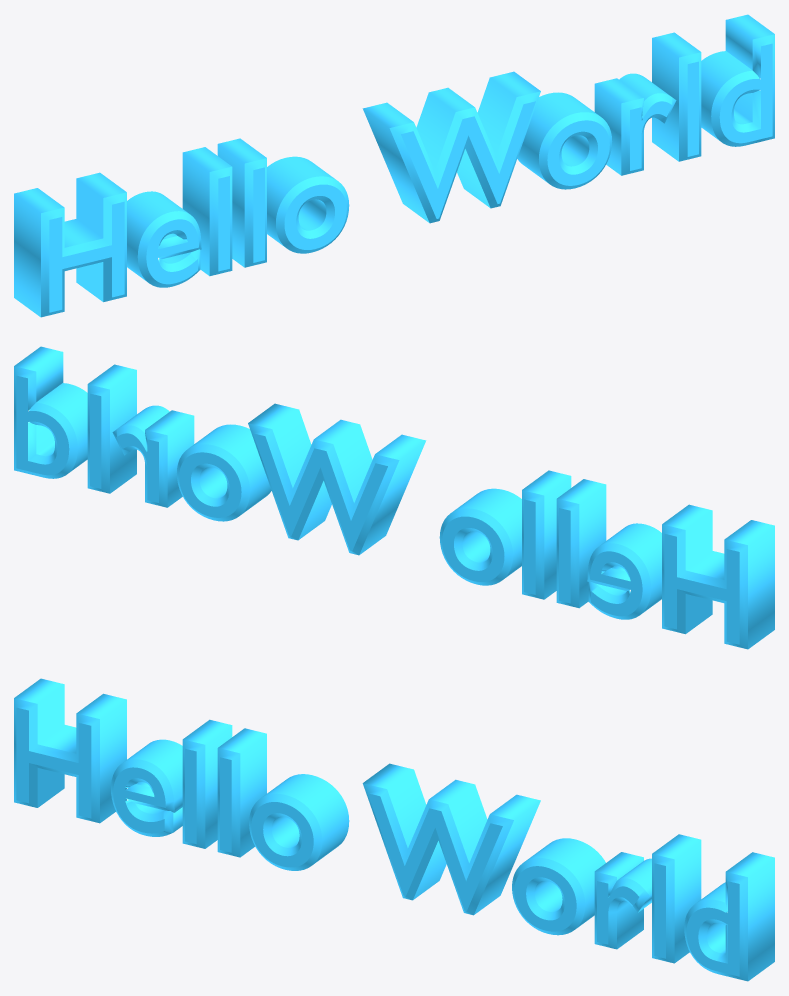
Rendered from HelloWorld.glb.
3 views of the same model, one above another, from view 1: azimuth 30°, elevation 25°; view 2: azimuth 150°, elevation 25°; view 3: azimuth 330°, elevation 25° (orthographic).
Parts seen in each view (by area): view 1: Text; view 2: Text; view 3: Text.
Boxes of the visible parts, box(x1,y1,x2,y2) form: Text: box(14, 14, 774, 317); Text: box(14, 346, 774, 649); Text: box(14, 678, 774, 981).
Size of the model in its own units: 5.65 by 0.7751 by 0.442.
